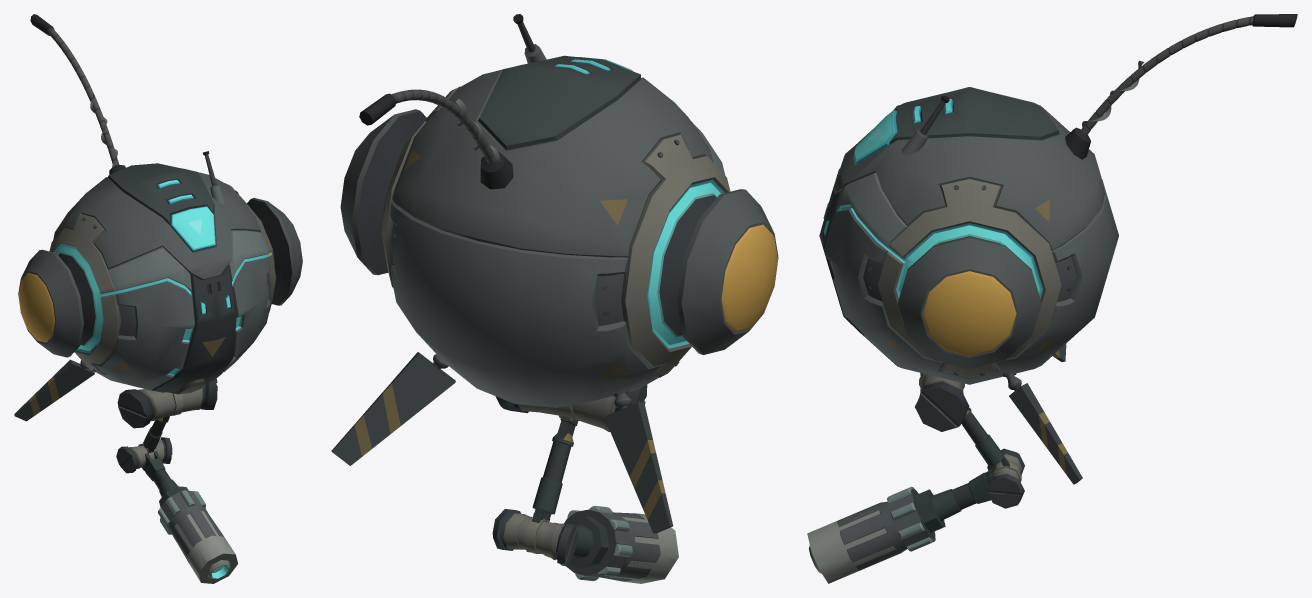
File: robot.fbx
3 renders of one model, left to right at view 1: azimuth 30°, elevation 25°; view 2: azimuth 150°, elevation 25°; view 3: azimuth 270°, elevation 25°, orthographic. The views are drawn at different scales.
Visible parts, largest first — view 1: Robot; view 2: Robot; view 3: Robot.
Part boxes in pixels (x1,y1,x2,y2): Robot: (14, 14, 302, 583); Robot: (331, 14, 778, 583); Robot: (807, 14, 1297, 583).
Bounding box in the file's own units: 2.69 × 4.26 × 3.33.
